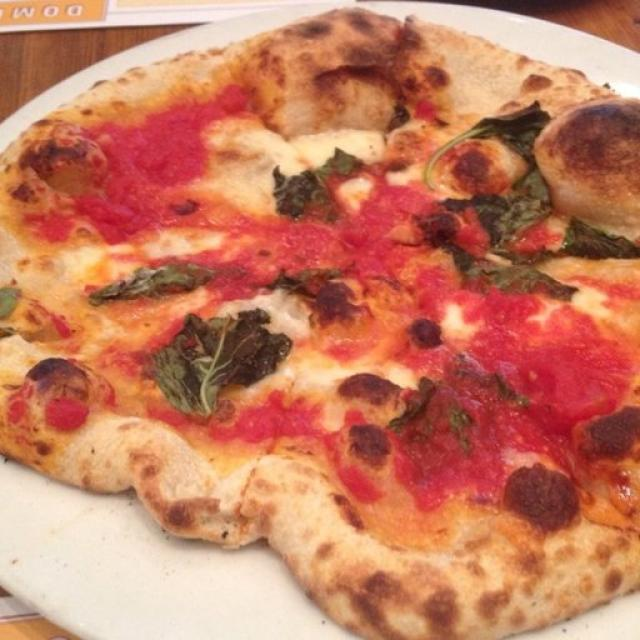Basil: (146, 316, 290, 418), (408, 109, 544, 181), (463, 252, 598, 304), (88, 249, 213, 301), (452, 183, 554, 246), (274, 152, 361, 223), (568, 218, 640, 267), (0, 283, 24, 338)
Pizza: (0, 10, 640, 640)
